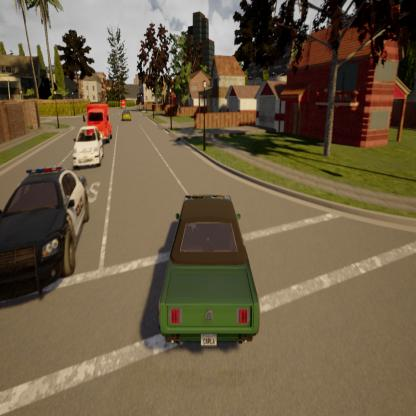Cars: (140, 168, 272, 364), (0, 127, 88, 305), (69, 121, 110, 176), (84, 92, 118, 150), (121, 104, 134, 134), (119, 93, 127, 112)
